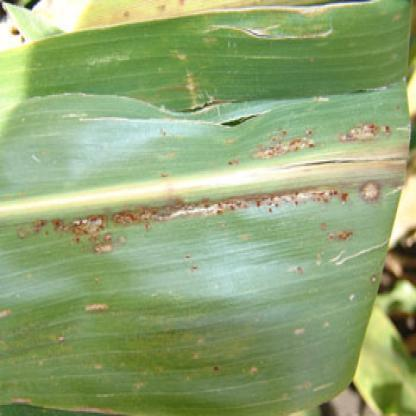Corn rust leaf: (10, 58, 414, 395)
